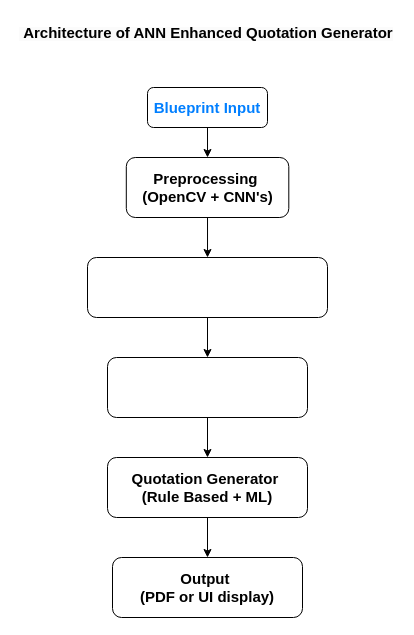
This 414x635 diagram has some shape labels left out. Here are the shapes that lost their labels. From the top down, the box of each, then its label:
(86, 256, 328, 318): YOLOv8 Model? (Object and Room Detection)
(106, 356, 308, 418): Feature Extraction and Classification
